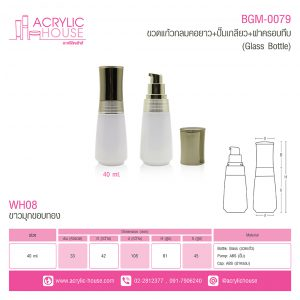glass_bottleww: (81, 52, 133, 183), (137, 54, 174, 195), (248, 108, 288, 225), (216, 131, 251, 220)
